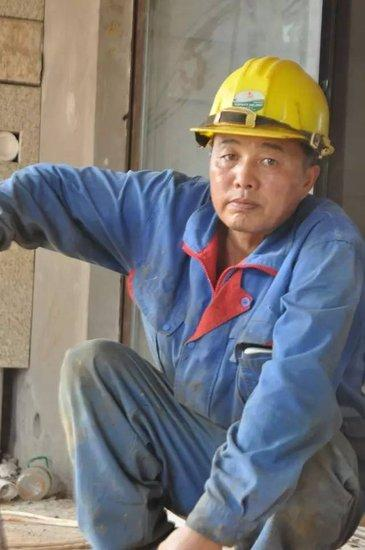helmet: (194, 57, 344, 159)
